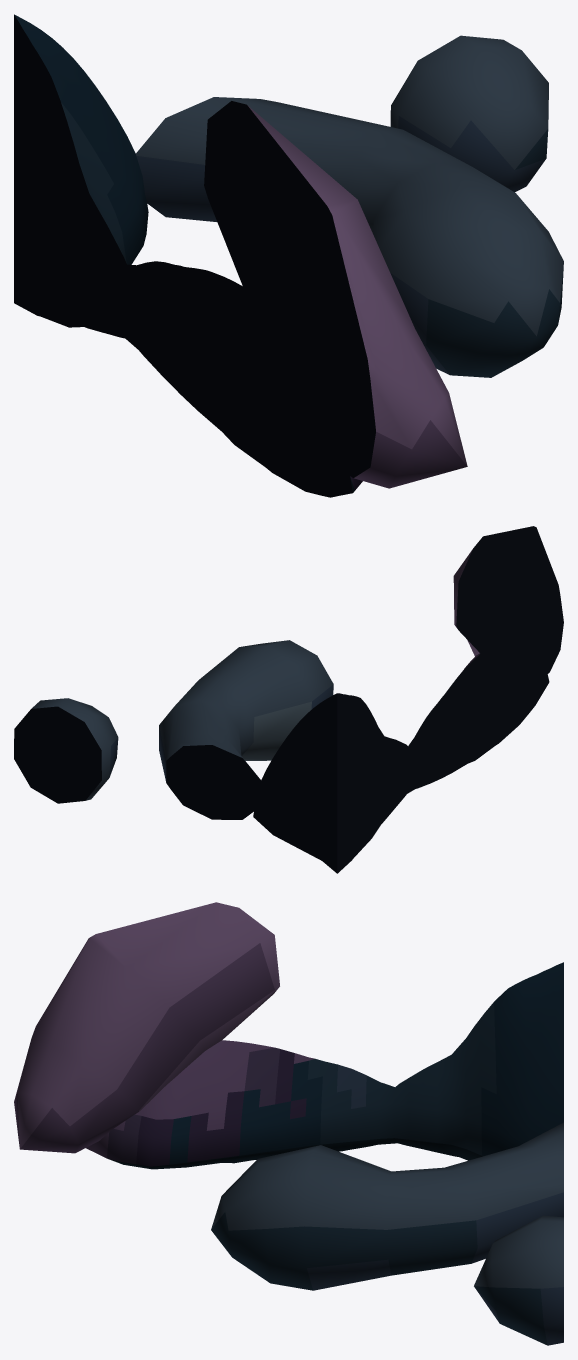
File: newshn-161.glb
The picture shows the model from 3 angles, top to bottom: view 1: azimuth 30°, elevation 25°; view 2: azimuth 150°, elevation 25°; view 3: azimuth 270°, elevation 25°; orthographic projection. The views are drawn at different scales.
Parts seen in each view (by area): view 1: newshn-161; view 2: newshn-161; view 3: newshn-161.
Boxes of the visible parts, x1,y1,x2,y2 form: newshn-161: [14, 14, 563, 497]; newshn-161: [14, 526, 563, 873]; newshn-161: [14, 902, 563, 1345].
Size of the model in its own units: 1.41 by 0.9726 by 1.73.
